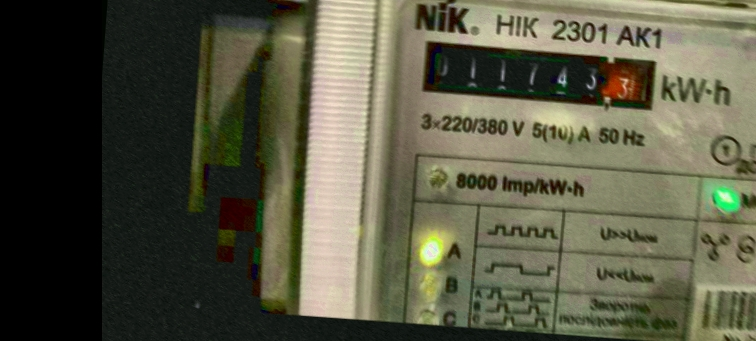0: (434, 50, 450, 79)
1: (495, 54, 509, 83), (466, 52, 478, 80)
3: (584, 64, 600, 92), (614, 75, 630, 101)
4: (554, 61, 570, 89)
7: (524, 56, 541, 85)
screen: (410, 29, 668, 121)
